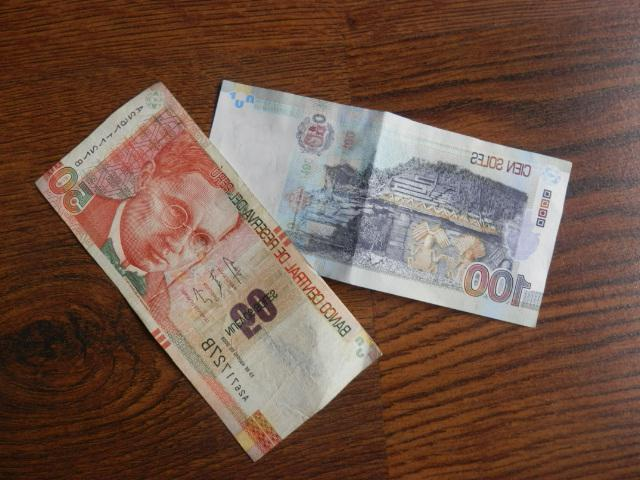B100: (281, 94, 580, 318)
B50: (37, 93, 283, 459)
